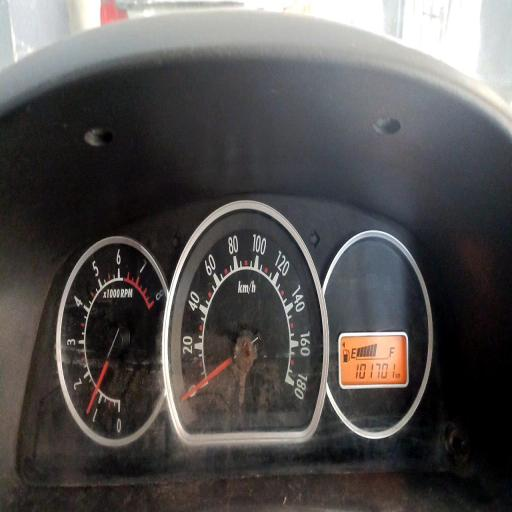tachometer: (55, 235, 169, 446)
